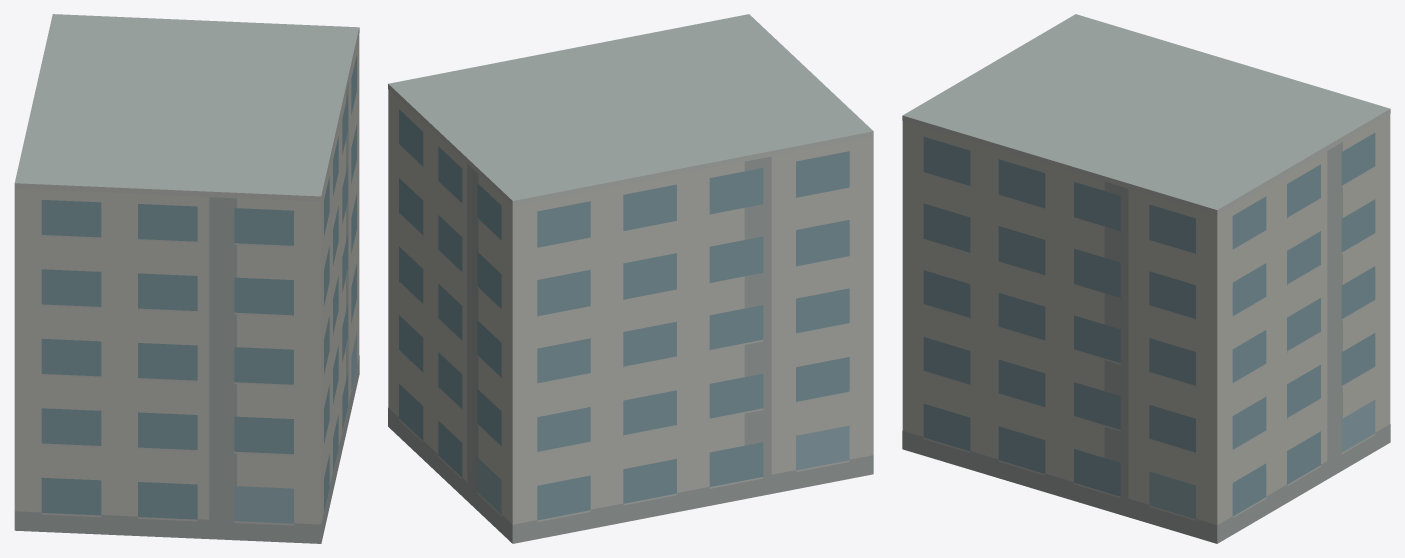
The model's file is survey-upis-32552926.glb.
The picture shows the model from 3 angles, left to right: view 1: azimuth 30°, elevation 25°; view 2: azimuth 150°, elevation 25°; view 3: azimuth 270°, elevation 25°; orthographic projection. The views are drawn at different scales.
Visible parts, largest first — view 1: survey-upis-32552926.tmp; view 2: survey-upis-32552926.tmp; view 3: survey-upis-32552926.tmp.
Boxes of the visible parts, x1,y1,x2,y2 form: survey-upis-32552926.tmp: (14, 14, 359, 543); survey-upis-32552926.tmp: (388, 14, 873, 543); survey-upis-32552926.tmp: (902, 14, 1390, 543).
Bounding box in the file's own units: 19.22 × 15.25 × 20.22.
